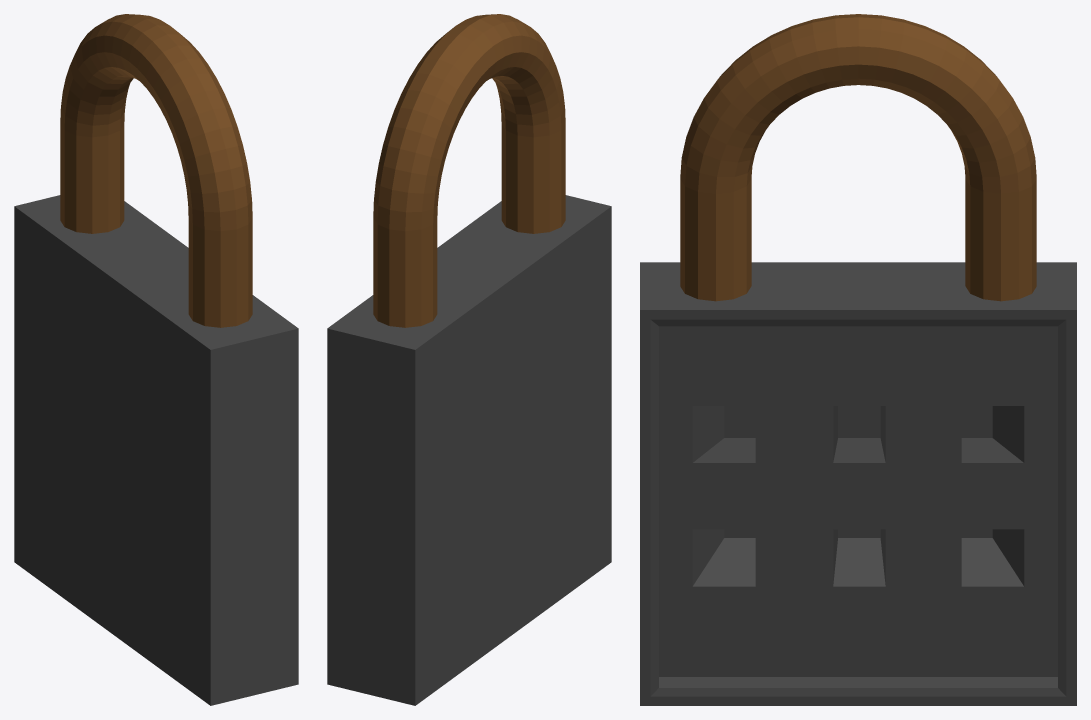
The model's file is kilit_model.fbx.
3 renders of one model, left to right at view 1: azimuth 30°, elevation 25°; view 2: azimuth 150°, elevation 25°; view 3: azimuth 270°, elevation 25°, orthographic. The views are drawn at different scales.
Visible parts, largest first — view 1: Cube, Torus; view 2: Cube, Torus; view 3: Cube, Torus.
Part boxes in pixels (x1,y1,x2,y2): Cube: [14, 195, 298, 705]; Torus: [60, 14, 252, 327]; Cube: [327, 195, 611, 705]; Torus: [373, 14, 565, 327]; Cube: [640, 262, 1076, 705]; Torus: [680, 14, 1036, 301].
Size of the model in its own units: 8.83 by 57.3 by 34.11.
